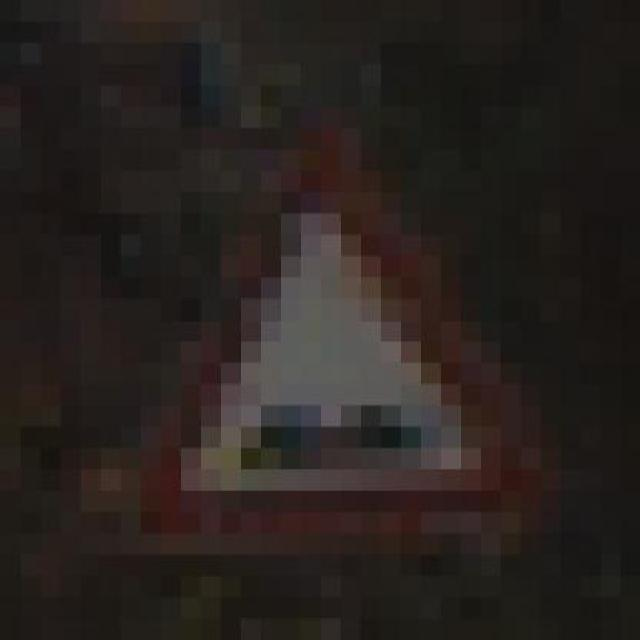Uneven Road: (101, 125, 562, 552)
